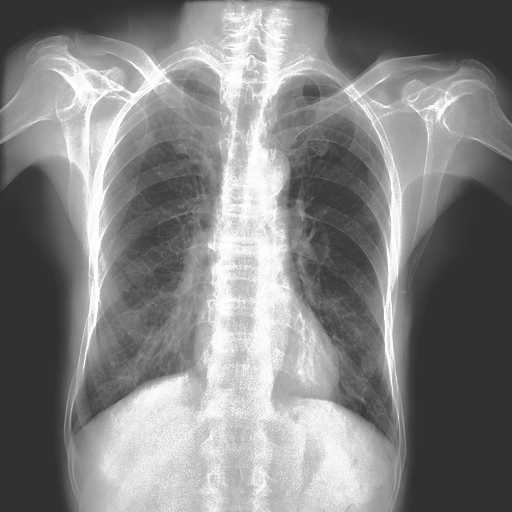Calcification: (166, 57, 211, 72)
Cardiomegaly: (89, 86, 215, 400), (295, 104, 392, 411)
Consolidation: (247, 148, 291, 194)
Pleural thickening: (360, 352, 378, 374)
